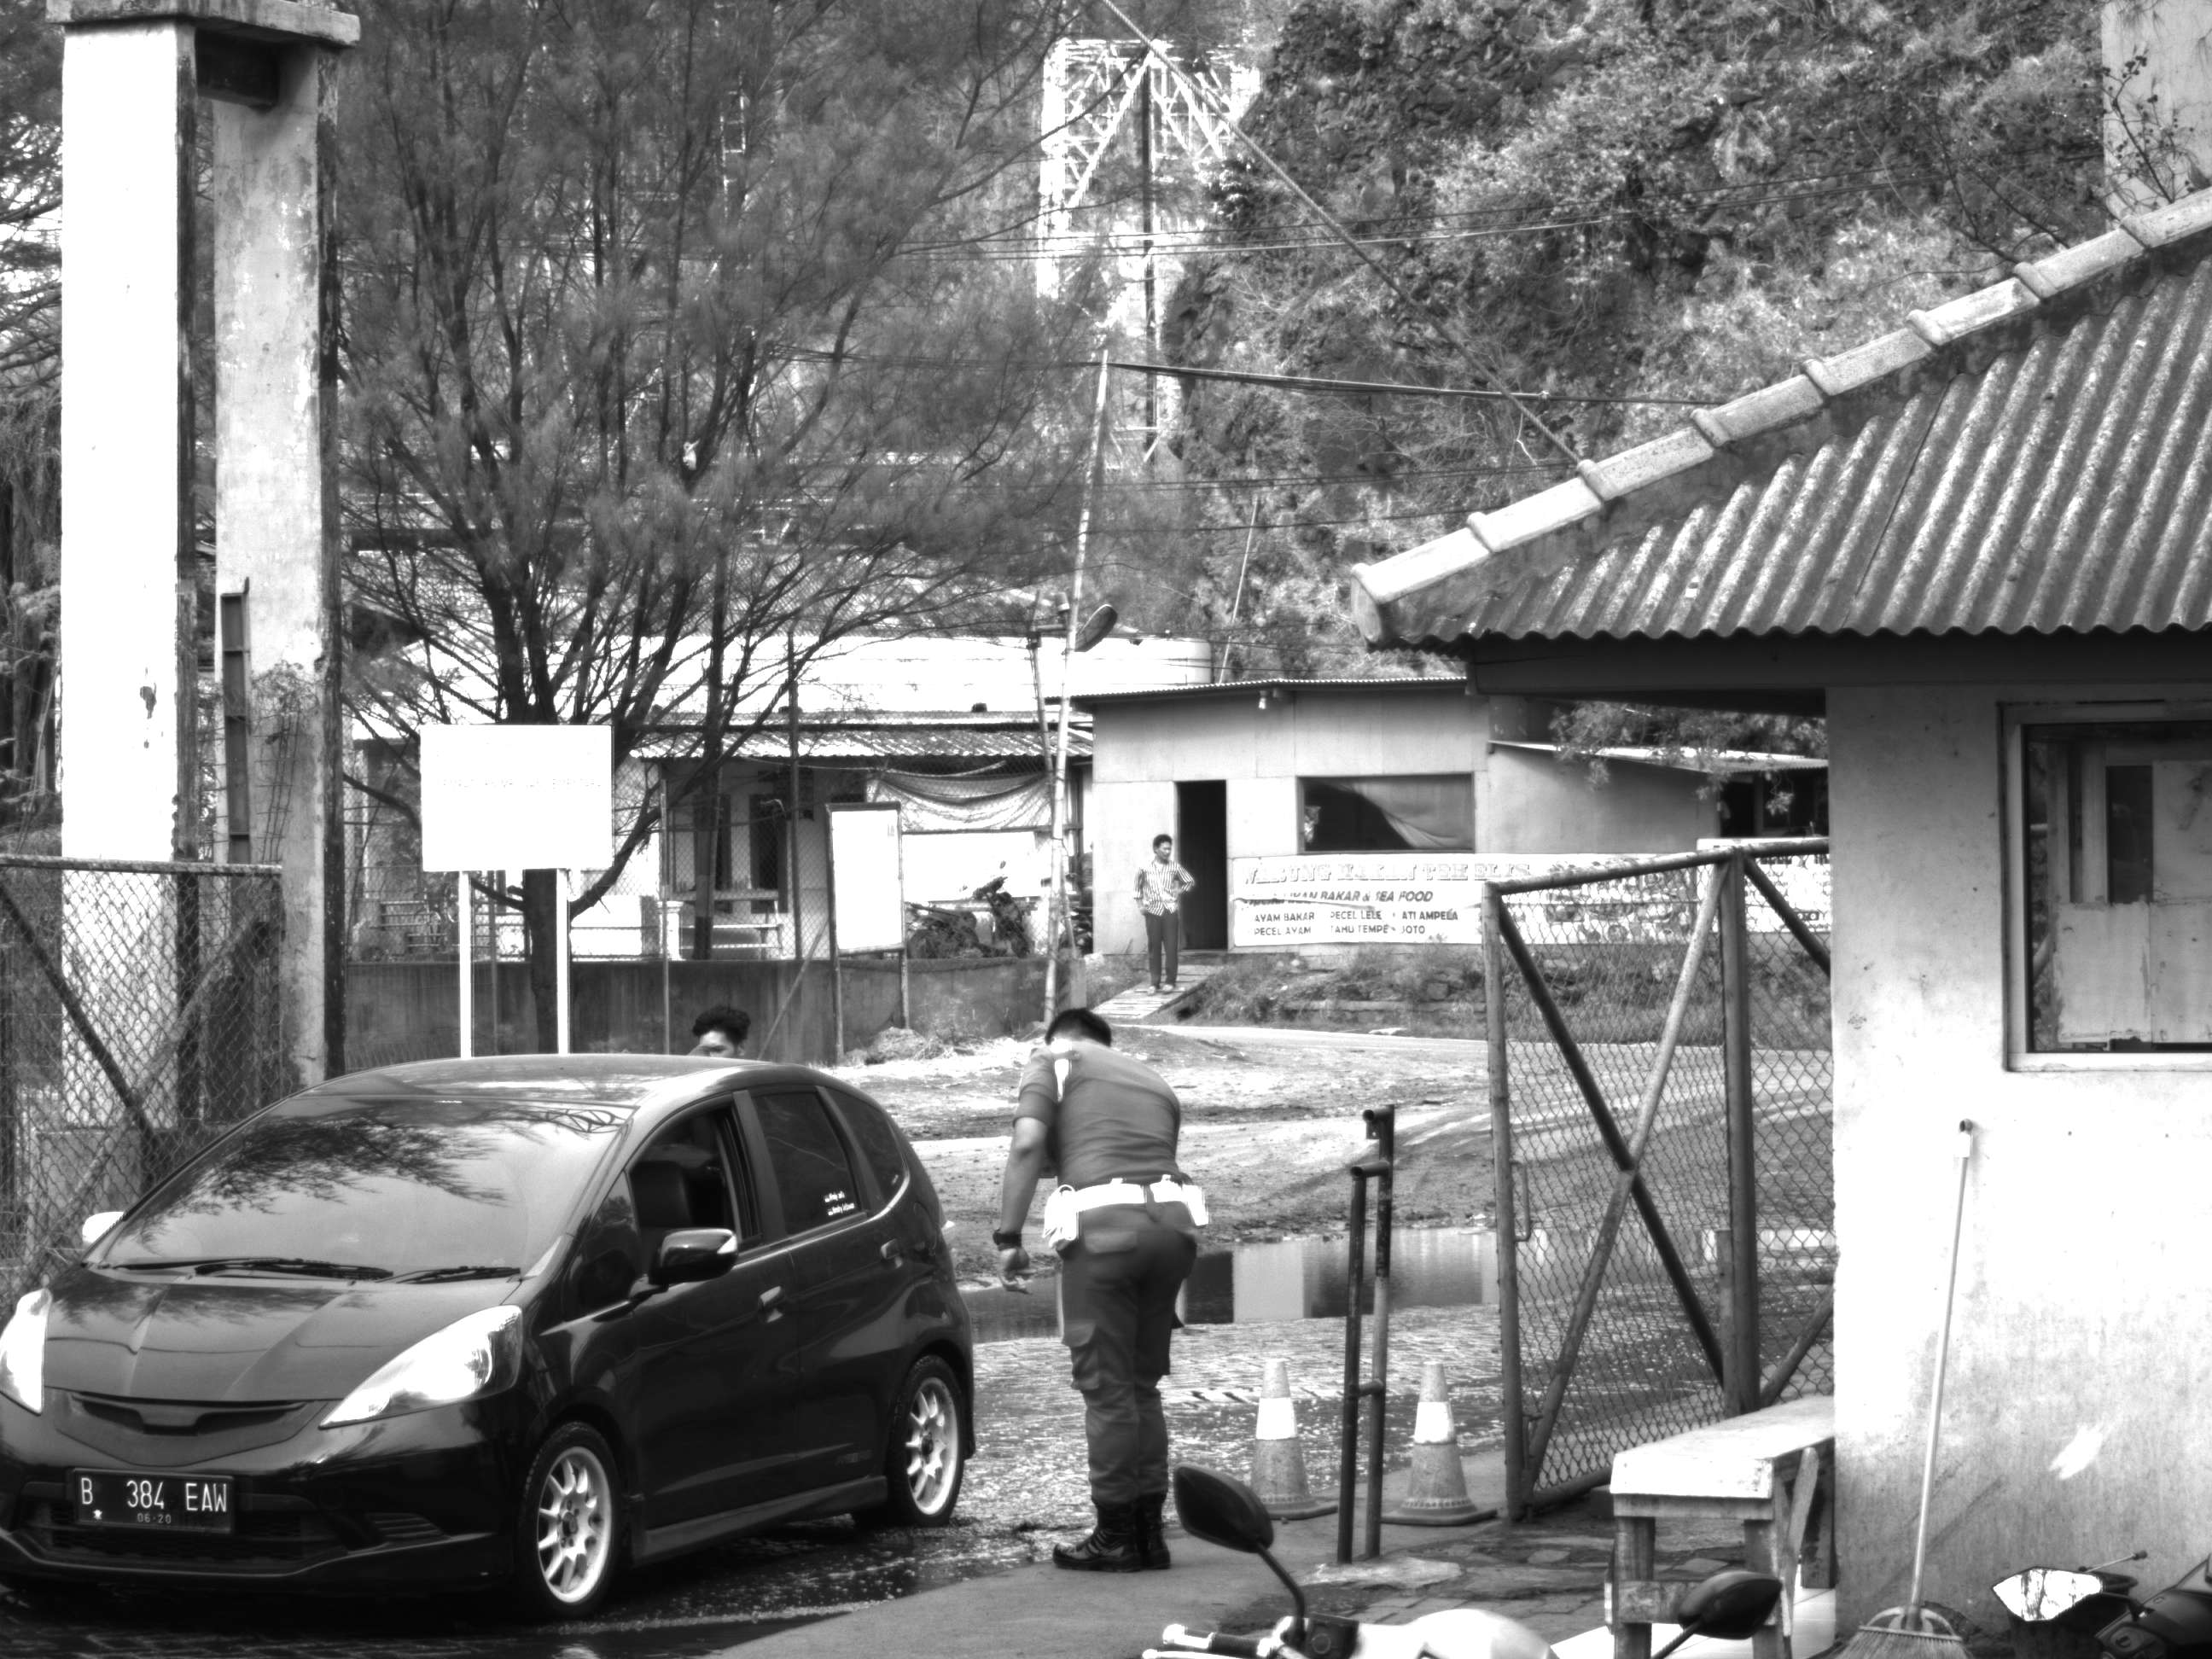day_small_front: (3, 1058, 644, 1623)
plate: (73, 1465, 235, 1529)
